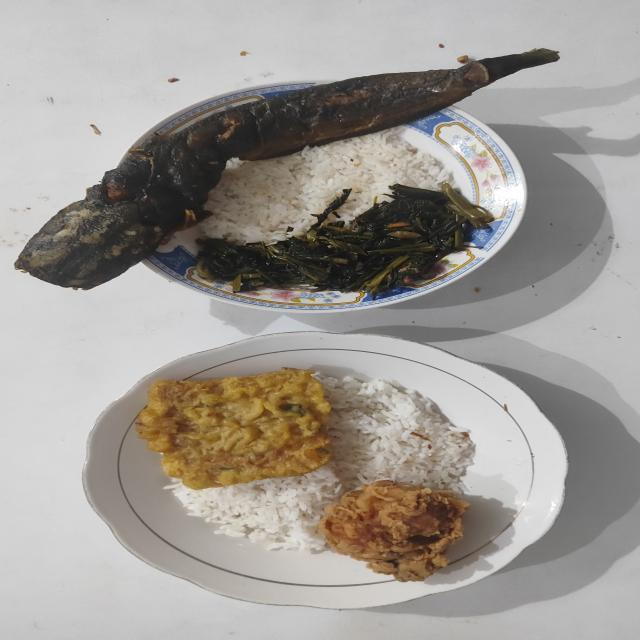nasi_putih: (170, 373, 476, 554), (196, 128, 459, 243)
tumis_kangkung: (196, 182, 494, 300)
